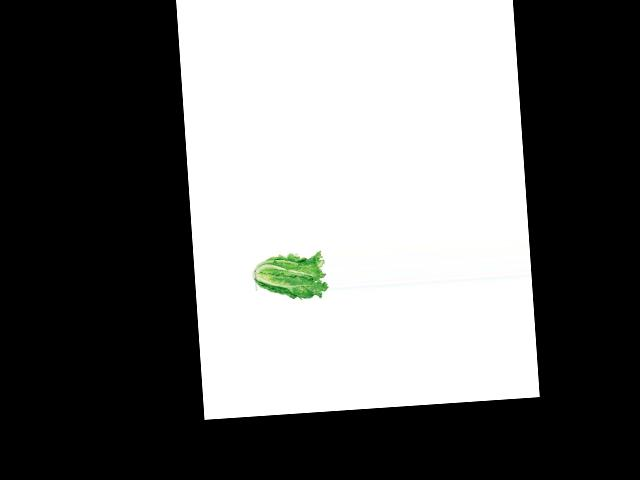lettuce: (253, 249, 329, 302)
